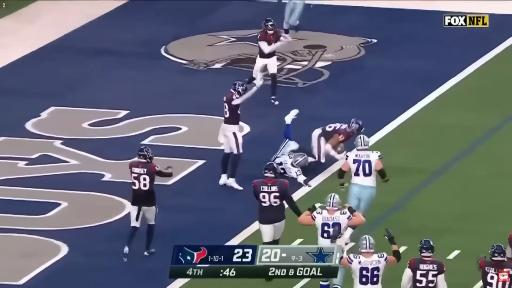Helmet: (419, 239, 434, 257), (490, 244, 506, 260), (359, 236, 375, 252), (231, 81, 247, 96), (137, 147, 153, 162), (291, 153, 308, 167), (349, 119, 364, 134), (263, 162, 278, 177), (326, 194, 340, 209), (355, 135, 370, 149), (263, 18, 275, 31)
Jersey: (253, 179, 293, 224), (312, 207, 352, 246), (347, 253, 387, 287), (129, 161, 159, 206), (346, 150, 382, 186), (407, 258, 445, 287), (479, 260, 511, 287), (321, 123, 355, 143), (274, 154, 302, 178), (224, 93, 240, 125), (258, 30, 281, 45)
Player: (123, 147, 173, 261), (218, 80, 262, 190), (338, 135, 388, 214), (253, 162, 301, 244), (247, 18, 291, 104), (299, 194, 365, 248), (341, 229, 401, 287), (271, 110, 314, 186), (312, 119, 363, 162), (401, 239, 446, 287), (479, 244, 511, 287), (284, 0, 305, 34), (507, 234, 511, 261)
